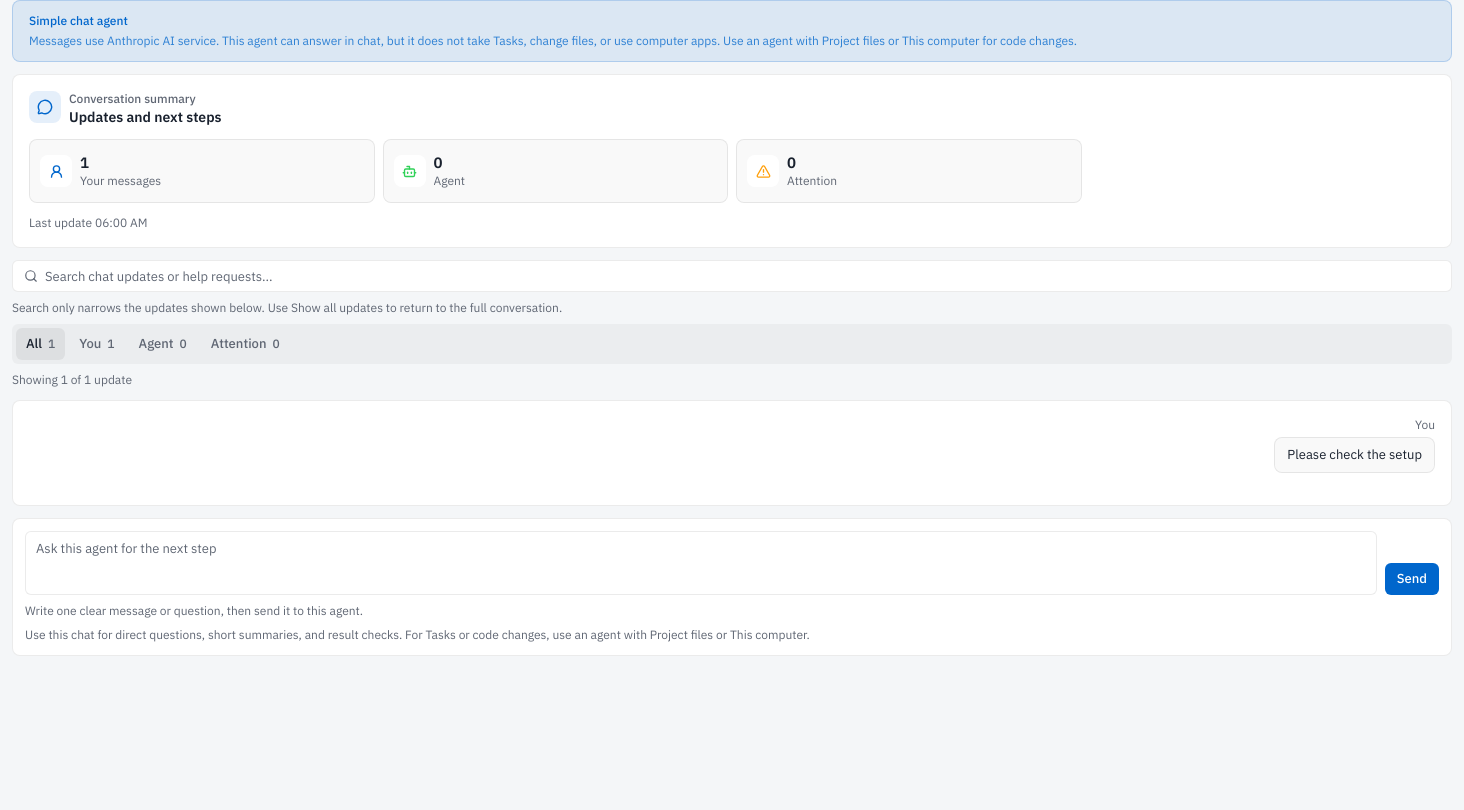
it: ChatView › explains an empty Agent view without filter jargon
Click the button with aria-label "show agent replies, 0 matching updates". click: x=163, y=344
box: left=129, top=328, right=197, bottom=360
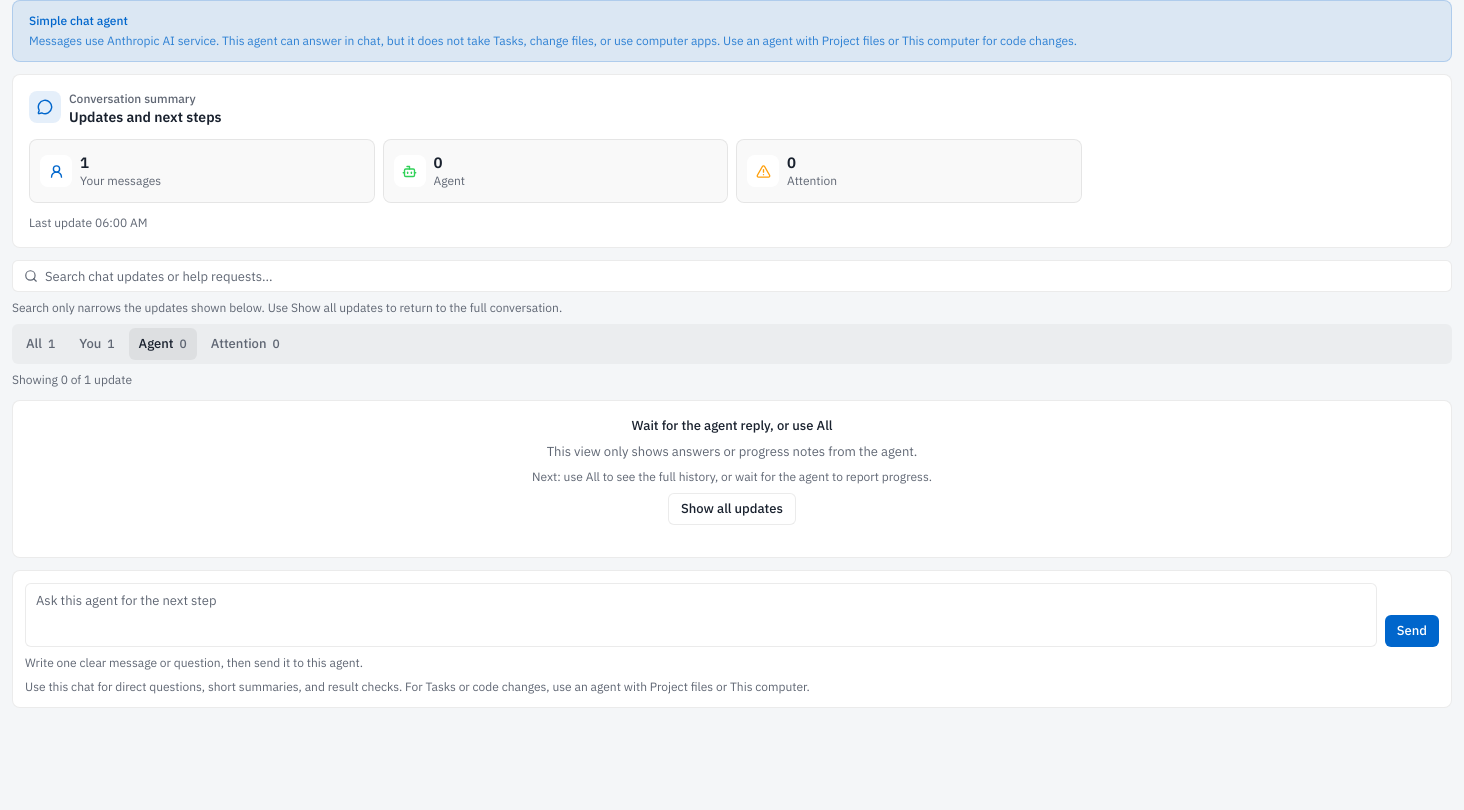
Now the message with test id "conversation-filter-empty" shows "Wait for the agent reply, or use All", box left=632, top=417, right=832, bottom=434
Now the message with test id "conversation-filter-empty" shows "This view only shows answers or progress notes from the agent.", box left=547, top=443, right=917, bottom=460
Now the message with test id "conversation-filter-empty" shows "use All to see the full history", box left=532, top=469, right=932, bottom=484
